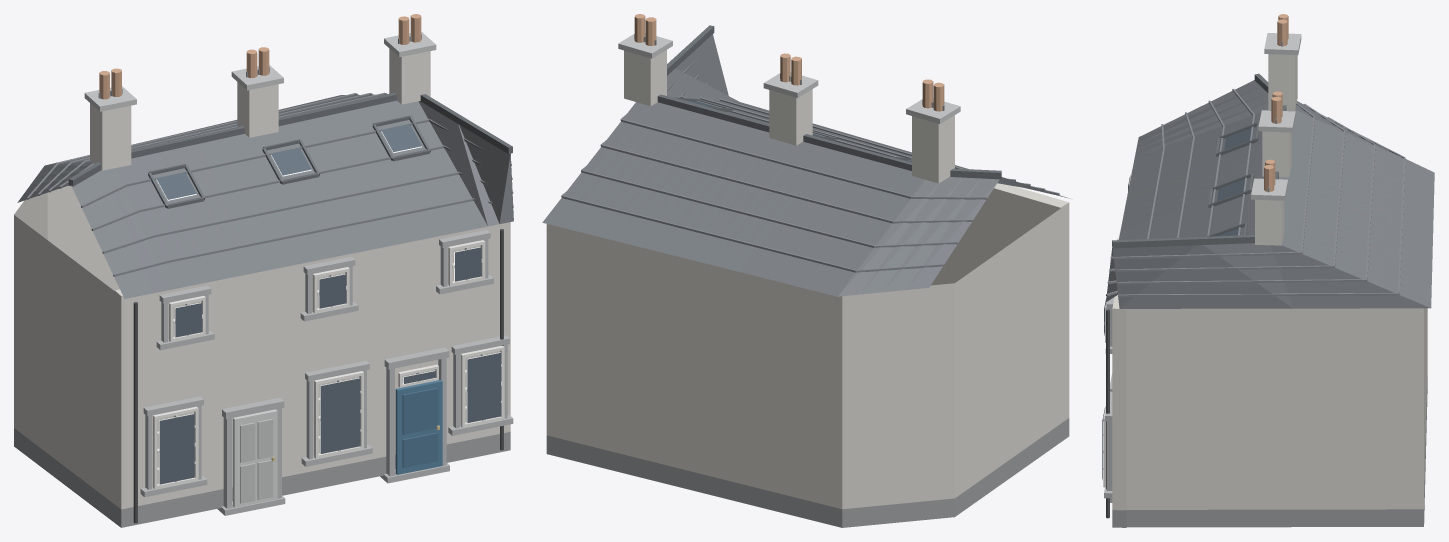
3 views of the same model, side by side, from view 1: azimuth 30°, elevation 25°; view 2: azimuth 150°, elevation 25°; view 3: azimuth 270°, elevation 25° (orthographic). The views are drawn at different scales.
Parts seen in each view (by area): view 1: harl_grey, slate, dress_dark, plinth, slate_lt, chim_render, frame, slate_dk, window_glass_005, door_blue_p, door_cad_p, window_glass_004 (+12 smaller); view 2: harl_grey, slate, plinth, slate_lt, chim_render, slate_dk, stone_band, pot; view 3: harl_grey, slate, slate_lt, plinth, chim_render, slate_dk, stone_band, pot, dress_dark, pipe.
Part boxes in pixels (<box>): harl_grey: <box>14,185,510,509</box>; slate: <box>17,94,513,298</box>; dress_dark: <box>140,230,513,515</box>; plinth: <box>14,428,510,527</box>; slate_lt: <box>27,92,513,276</box>; chim_render: <box>90,48,430,170</box>; frame: <box>153,240,504,488</box>; slate_dk: <box>68,92,512,208</box>; window_glass_005: <box>320,378,360,453</box>; door_blue_p: <box>402,388,438,467</box>; door_cad_p: <box>240,419,273,503</box>; window_glass_004: <box>159,413,194,484</box>; harl_grey: <box>546,183,1069,509</box>; slate: <box>542,34,1070,296</box>; plinth: <box>546,418,1069,527</box>; slate_lt: <box>561,59,1059,272</box>; chim_render: <box>624,50,954,183</box>; slate_dk: <box>657,25,1001,179</box>; stone_band: <box>618,33,960,123</box>; pot: <box>634,14,944,111</box>; harl_grey: <box>1112,295,1427,510</box>; slate: <box>1105,80,1434,308</box>; slate_lt: <box>1106,89,1405,296</box>; plinth: <box>1112,377,1427,527</box>; chim_render: <box>1255,54,1297,245</box>; slate_dk: <box>1112,73,1286,248</box>; stone_band: <box>1251,33,1301,200</box>; pot: <box>1264,14,1288,191</box>; dress_dark: <box>1104,297,1114,502</box>; pipe: <box>1106,309,1109,518</box>.
Bounding box in the file's own units: 9.1 × 9.1 × 7.41.
